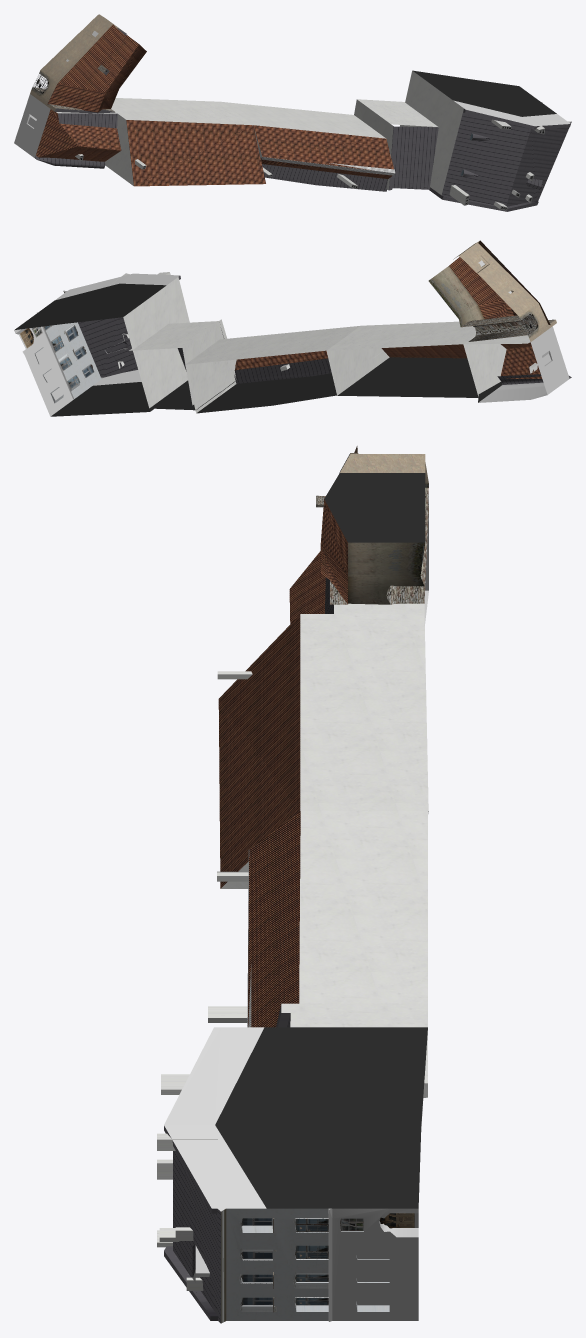
Rendered from Lai_25-origo.obj.
The picture shows the model from 3 angles, top to bottom: view 1: azimuth 30°, elevation 25°; view 2: azimuth 150°, elevation 25°; view 3: azimuth 270°, elevation 25°; orthographic projection. The views are drawn at different scales.
Parts seen in each view (by area): view 1: Lai_25; view 2: Lai_25; view 3: Lai_25.
Part boxes in pixels (x1,y1,x2,y2): Lai_25: (14, 14, 571, 211); Lai_25: (14, 240, 571, 416); Lai_25: (157, 446, 428, 1323).
Bounding box in the file's own units: 87.25 × 41 × 20.33.
